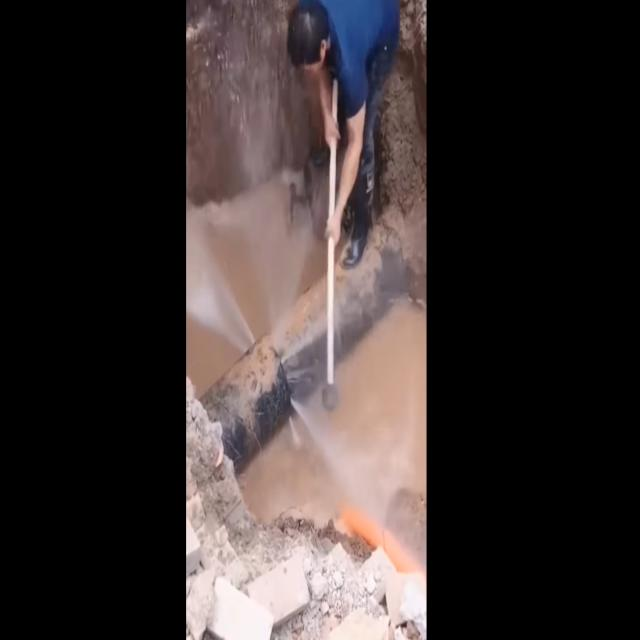leak: (288, 300, 426, 524), (186, 209, 255, 352)
